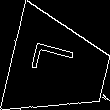L_E: (32, 46, 85, 88)
